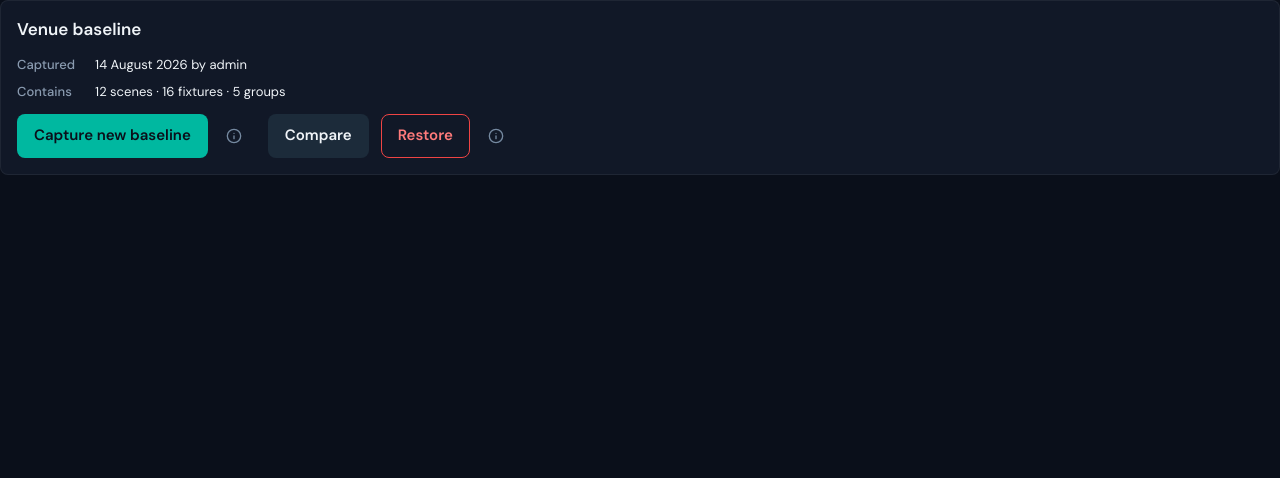
Test: BaselineCard — Compare's diff, grouped by area with before/after › groups changes by area and shows before → after for a changed row
Click the button "Compare".
click(318, 136)  # box 268,114 -> 369,158
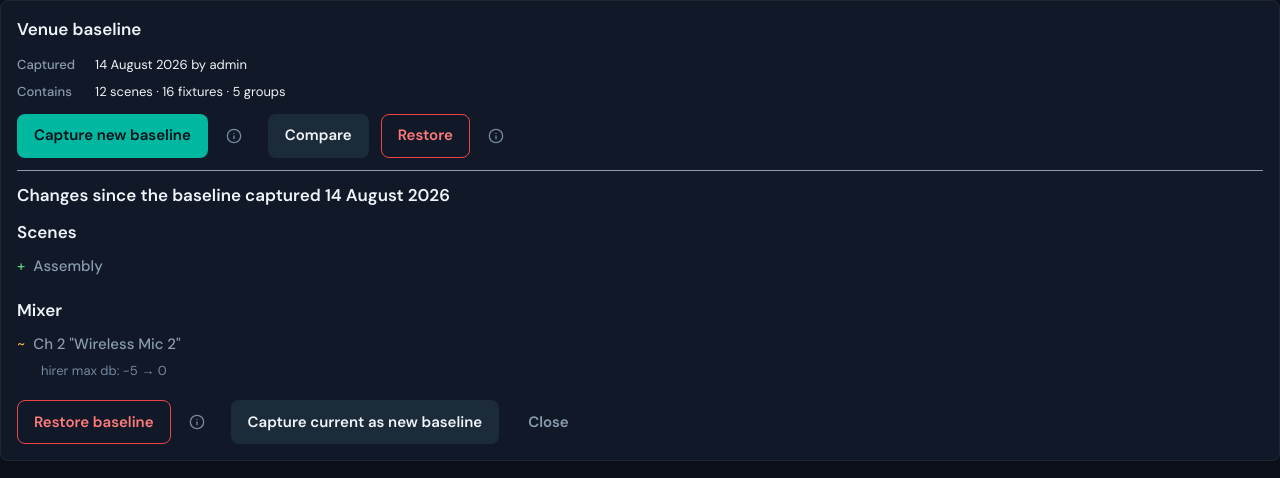
Check: the heading "Scenes" is shown, box 17,221 -> 77,243
Check: the heading "Mixer" is shown, box 17,299 -> 62,321
Check: the text "Assembly" is shown, box 33,254 -> 103,278
